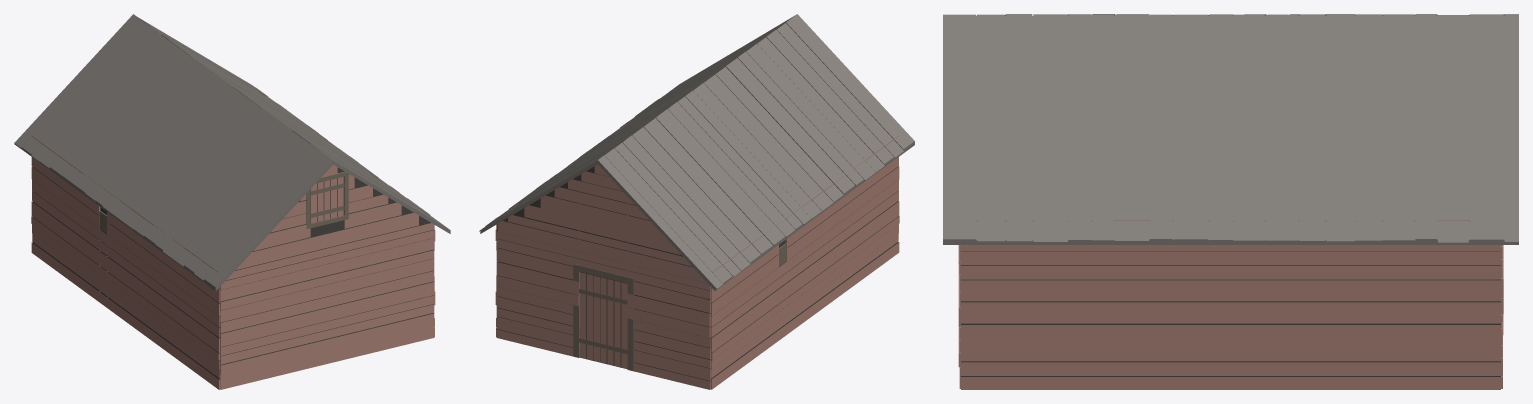
File: recon_1835_south_w2_026__inferred_1835.glb
The picture shows the model from 3 angles, left to right: view 1: azimuth 30°, elevation 25°; view 2: azimuth 150°, elevation 25°; view 3: azimuth 270°, elevation 25°; orthographic projection. The views are drawn at different scales.
Parts seen in each view (by area): view 1: recon_1835_south_w2_026__inferred_1835; view 2: recon_1835_south_w2_026__inferred_1835; view 3: recon_1835_south_w2_026__inferred_1835.
Boxes of the visible parts, left/top/right/bottom form: recon_1835_south_w2_026__inferred_1835: left=14, top=14, right=450, bottom=389; recon_1835_south_w2_026__inferred_1835: left=479, top=14, right=914, bottom=389; recon_1835_south_w2_026__inferred_1835: left=943, top=14, right=1518, bottom=389.
Bounding box in the file's own units: 6.63 × 5.53 × 9.62.
